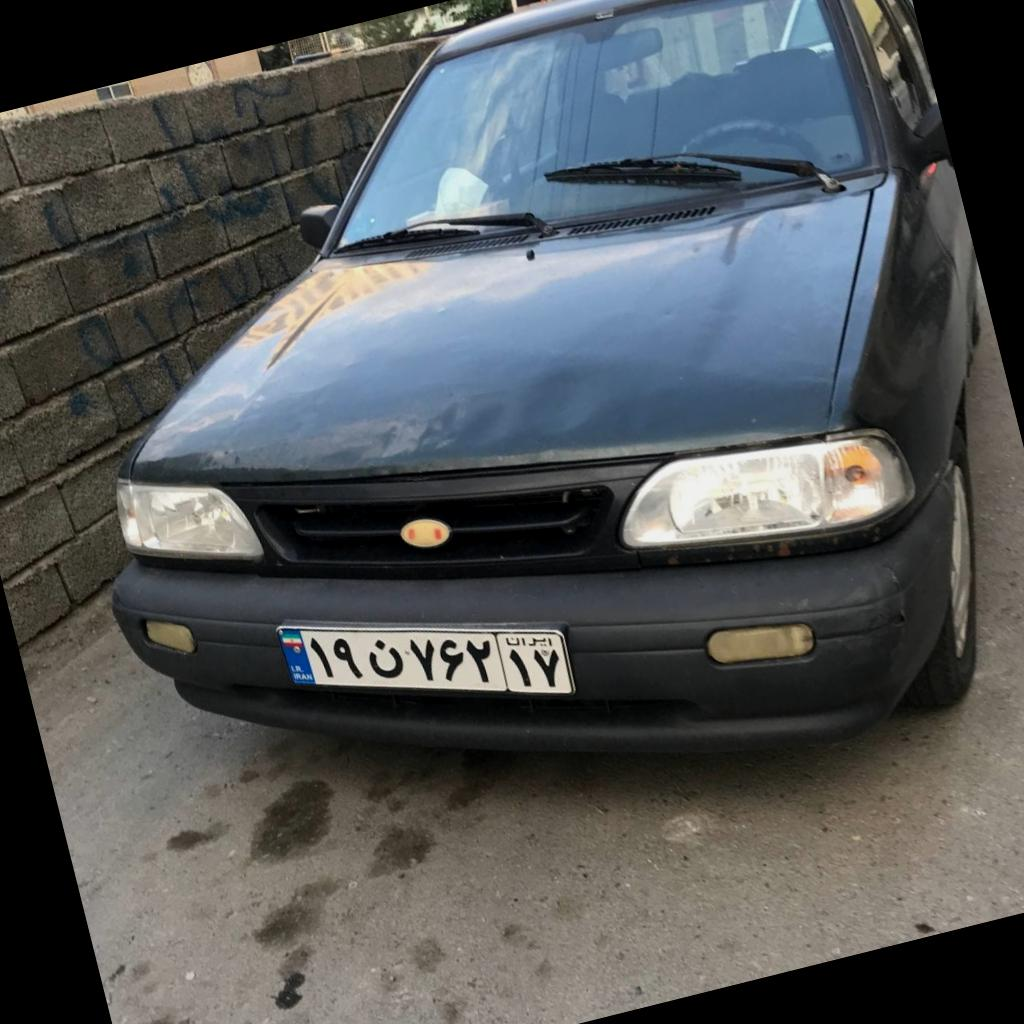Plates: (276, 630, 572, 692)
